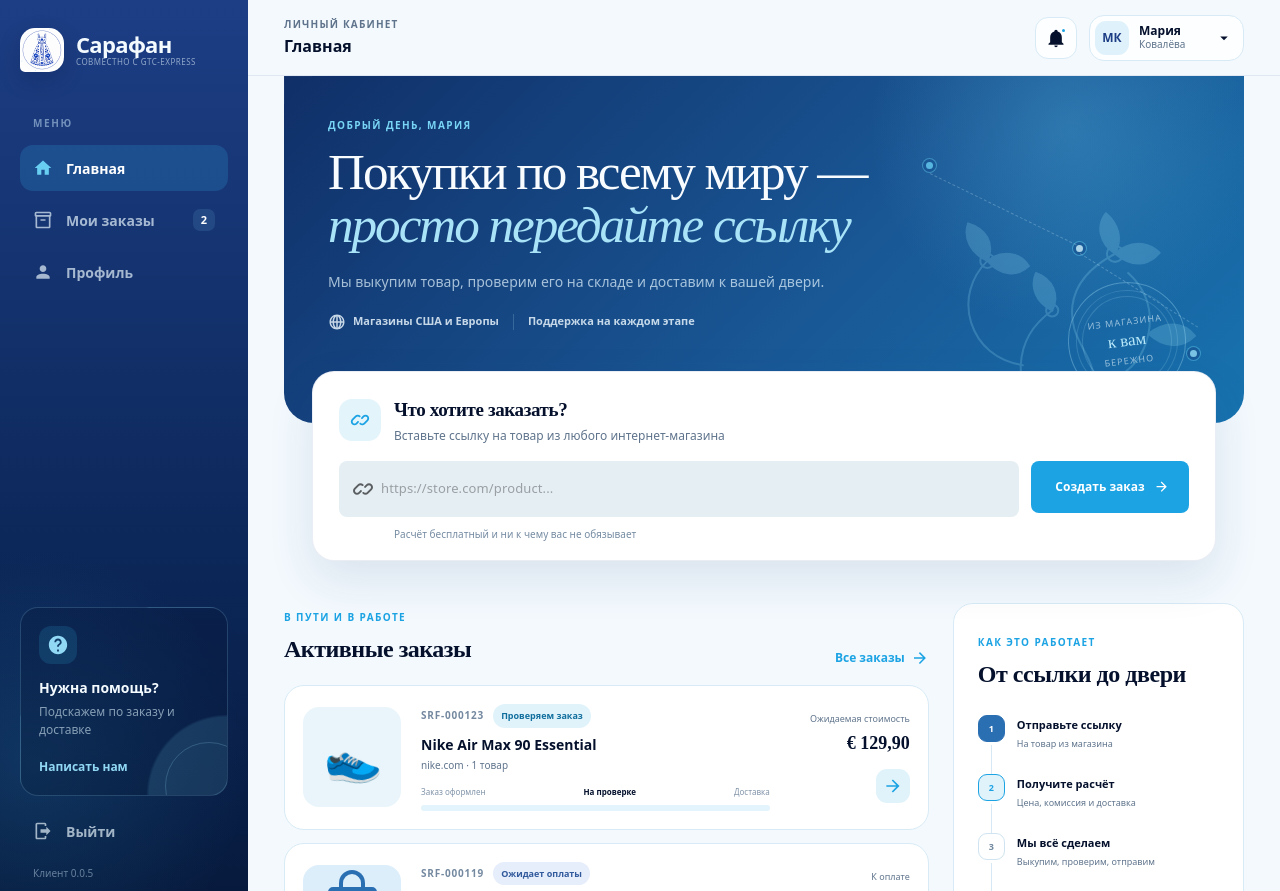
Test: App authentication flow › keeps running when the version request fails and completes server logout
The image size is (1280, 891).
Step 1. Click the button with class "nav-item--muted" → [124, 831], box [20,808,228,854]
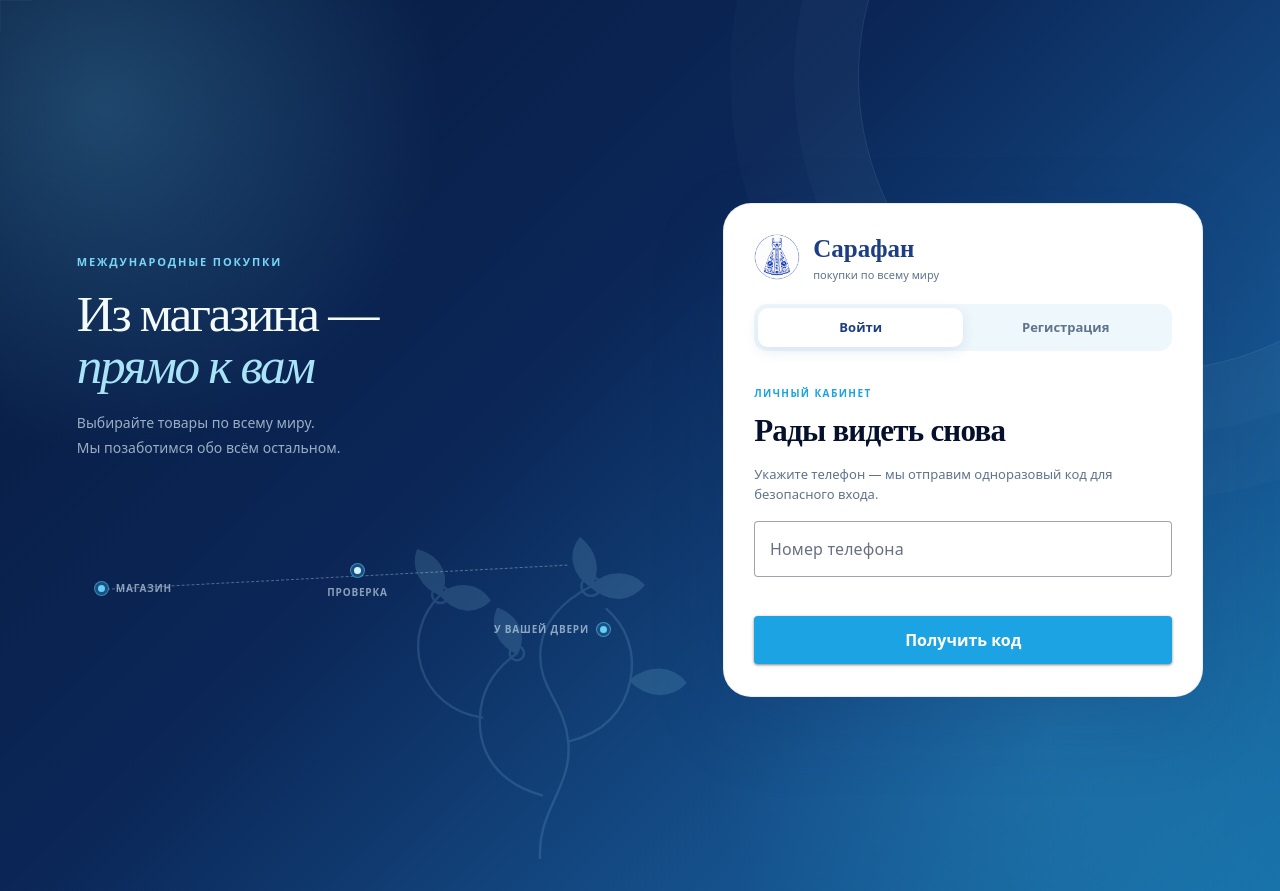
Now the element with class "auth-card" is shown, box [723,203,1203,697]
